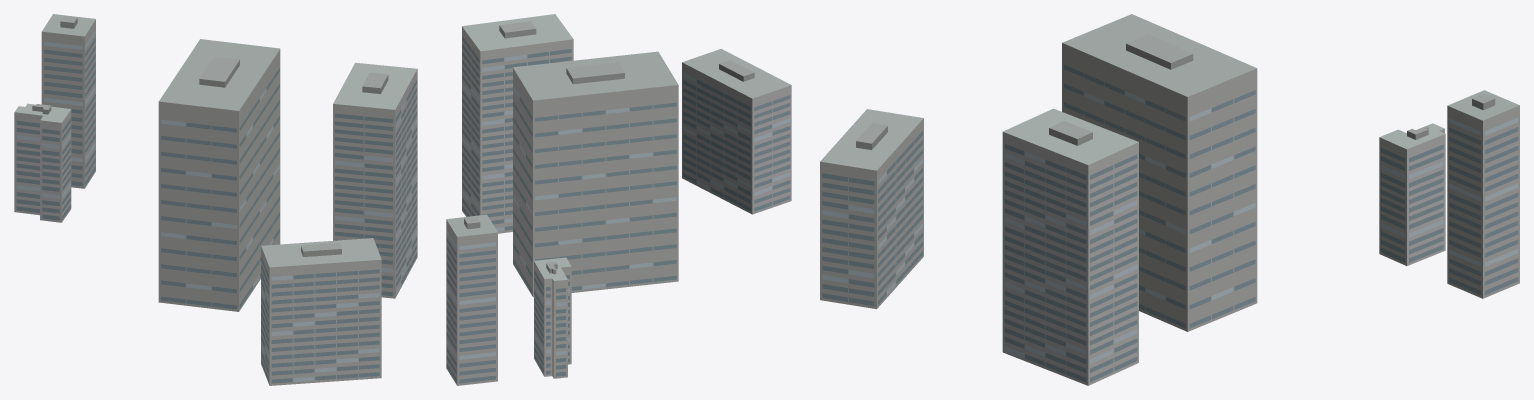
File: apt-a14070301.glb
3 renders of one model, left to right at view 1: azimuth 30°, elevation 25°; view 2: azimuth 150°, elevation 25°; view 3: azimuth 270°, elevation 25°, orthographic. The views are drawn at different scales.
Parts seen in each view (by area): view 1: apt-a14070301; view 2: apt-a14070301; view 3: apt-a14070301.
Boxes of the visible parts, left/top/right/bottom form: apt-a14070301: left=14, top=14, right=417, bottom=385; apt-a14070301: left=446, top=14, right=791, bottom=385; apt-a14070301: left=820, top=14, right=1519, bottom=385.
Bounding box in the file's own units: 110 × 85 × 223.
